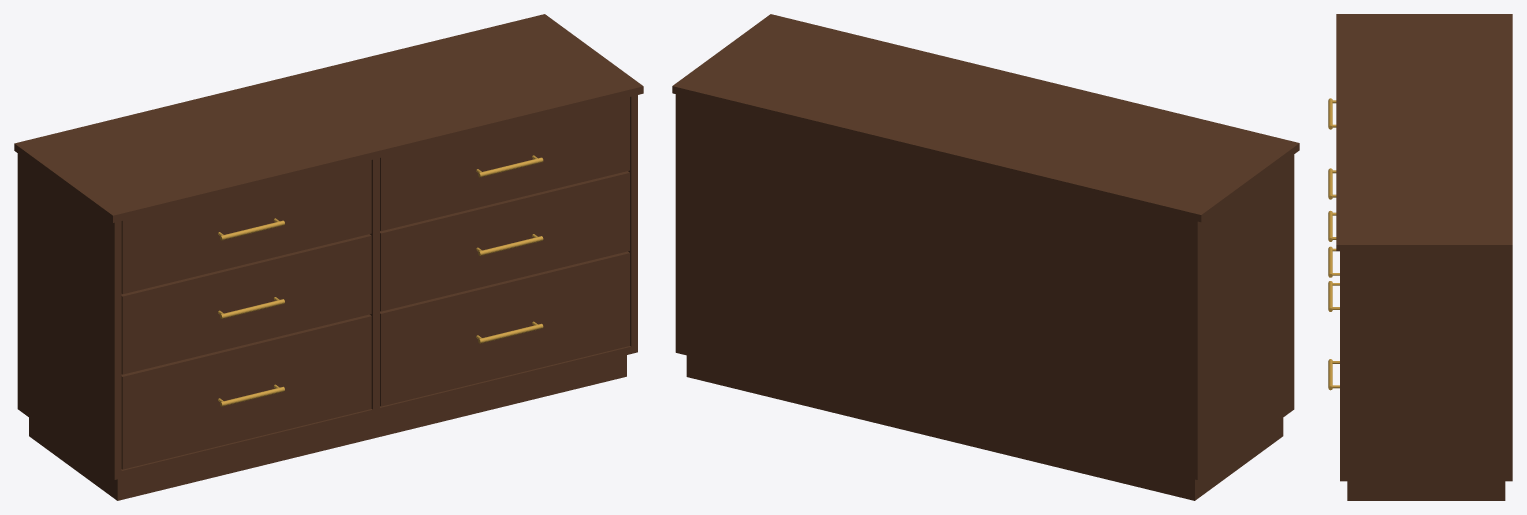
File: 033_six_drawer_double_dresser.glb
3 renders of one model, left to right at view 1: azimuth 30°, elevation 25°; view 2: azimuth 150°, elevation 25°; view 3: azimuth 270°, elevation 25°, orthographic. The views are drawn at different scales.
Visible parts, largest first — view 1: 003_carcass_top, 001_carcass_side_l, 007_drawer_1_front, 034_drawer_1_front, 016_drawer_2_front, 043_drawer_2_front, 025_drawer_3_front, 052_drawer_3_front, 000_plinth, 004_carcass_bottom, 002_carcass_side_r, 006_centre_divider; view 2: 005_carcass_back_panel, 003_carcass_top, 001_carcass_side_l, 000_plinth, 002_carcass_side_r; view 3: 003_carcass_top, 002_carcass_side_r, 000_plinth, 001_carcass_side_l.
Part boxes in pixels (<box>): 003_carcass_top: <box>14,14,643,222</box>; 001_carcass_side_l: <box>17,142,121,479</box>; 007_drawer_1_front: <box>121,314,371,469</box>; 034_drawer_1_front: <box>380,251,629,406</box>; 016_drawer_2_front: <box>121,234,371,374</box>; 043_drawer_2_front: <box>380,171,629,311</box>; 025_drawer_3_front: <box>121,160,371,294</box>; 052_drawer_3_front: <box>380,97,629,231</box>; 000_plinth: <box>29,355,626,500</box>; 004_carcass_bottom: <box>121,346,631,477</box>; 002_carcass_side_r: <box>534,15,637,353</box>; 006_centre_divider: <box>370,158,379,409</box>; 005_carcass_back_panel: <box>682,96,1190,478</box>; 003_carcass_top: <box>672,14,1299,222</box>; 001_carcass_side_l: <box>1190,142,1294,479</box>; 000_plinth: <box>686,355,1283,500</box>; 002_carcass_side_r: <box>675,16,778,354</box>; 003_carcass_top: <box>1336,14,1512,251</box>; 002_carcass_side_r: <box>1340,240,1512,481</box>; 000_plinth: <box>1347,481,1505,500</box>; 001_carcass_side_l: <box>1340,15,1512,18</box>.
Size of the model in its own units: 1.52 by 0.8 by 0.512.
